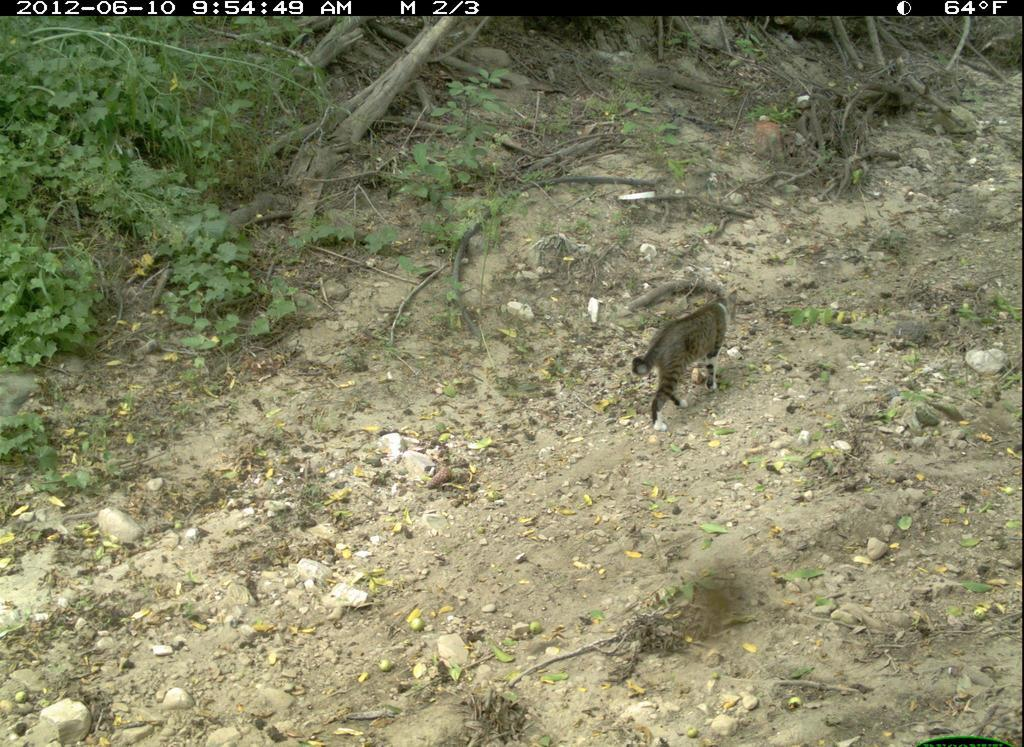cat: (626, 281, 748, 442)
